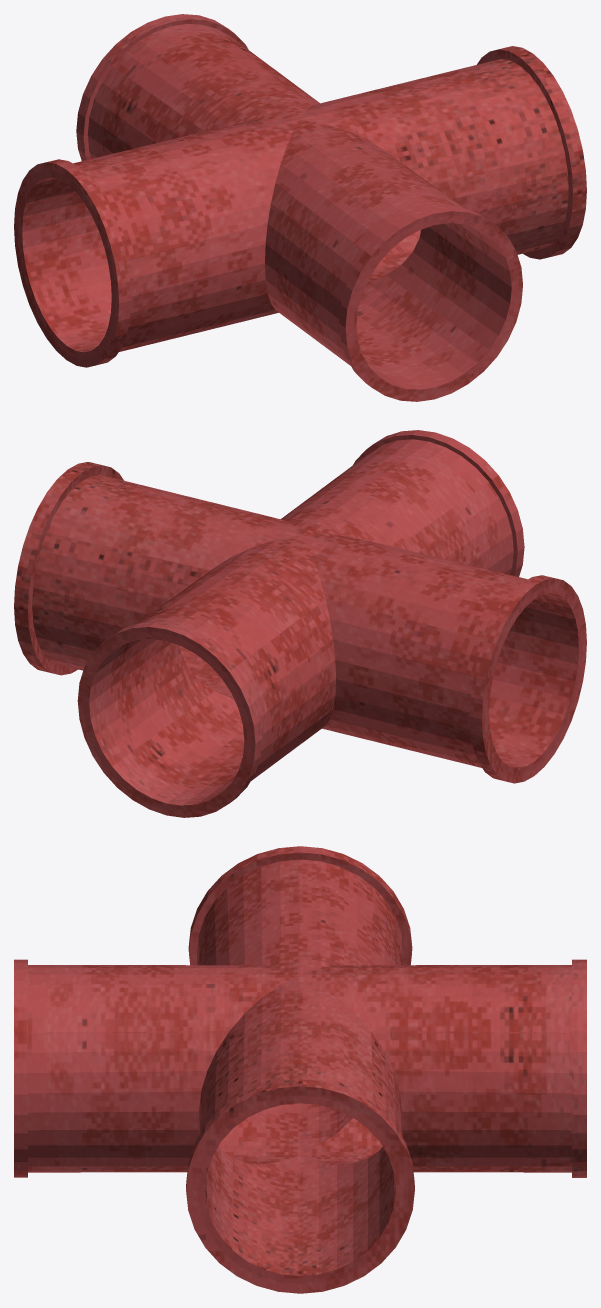
The model's file is CrossPipeFinal.fbx.
The picture shows the model from 3 angles, top to bottom: view 1: azimuth 30°, elevation 25°; view 2: azimuth 150°, elevation 25°; view 3: azimuth 270°, elevation 25°; orthographic projection. The views are drawn at different scales.
Visible parts, largest first — view 1: Cross Joint; view 2: Cross Joint; view 3: Cross Joint.
Boxes of the visible parts, bbox=[...] form: Cross Joint: bbox=[14, 14, 586, 401]; Cross Joint: bbox=[14, 430, 586, 817]; Cross Joint: bbox=[14, 846, 586, 1293].
Bounding box in the file's own units: 601 × 240 × 601.
